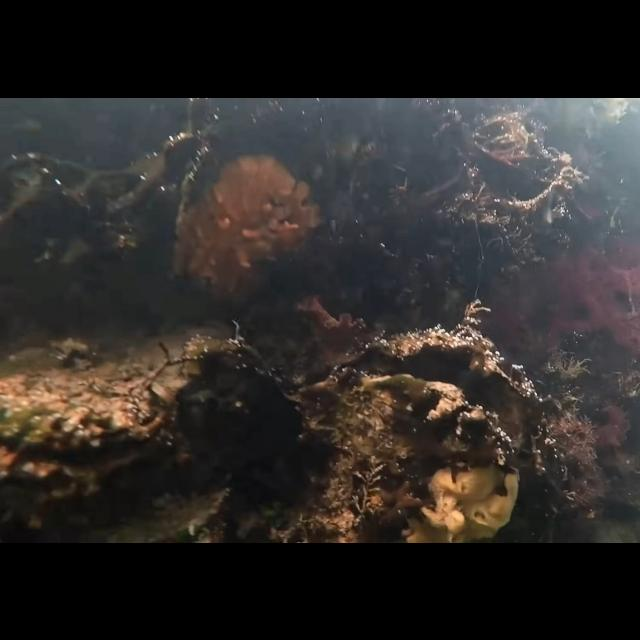Oyster-Closed: (172, 127, 328, 310)
Oyster-Open: (291, 324, 537, 542), (0, 316, 240, 482)
